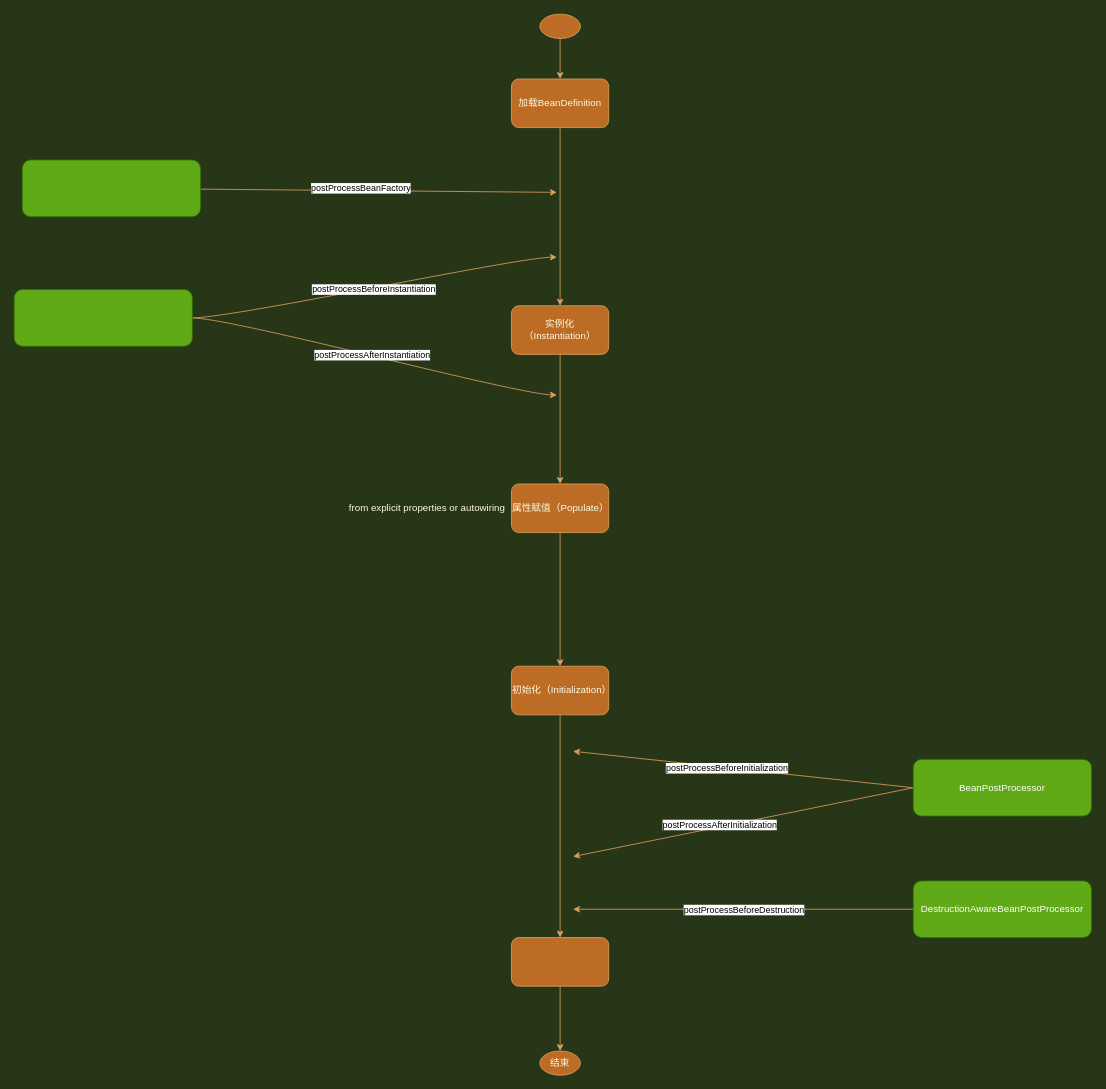
Some shapes in this 1106 by 1089 pixel diagram are drawn without their labels. Each missing label, with the centre of its shape:
"BeanFactoryPostProcessor" belongs at (x=110, y=188).
"InstantiationAwareBeanPostProcessor" belongs at (x=102, y=317).
"开始" belongs at (x=559, y=25).
"销毁（Destruction）" belongs at (x=560, y=961).
